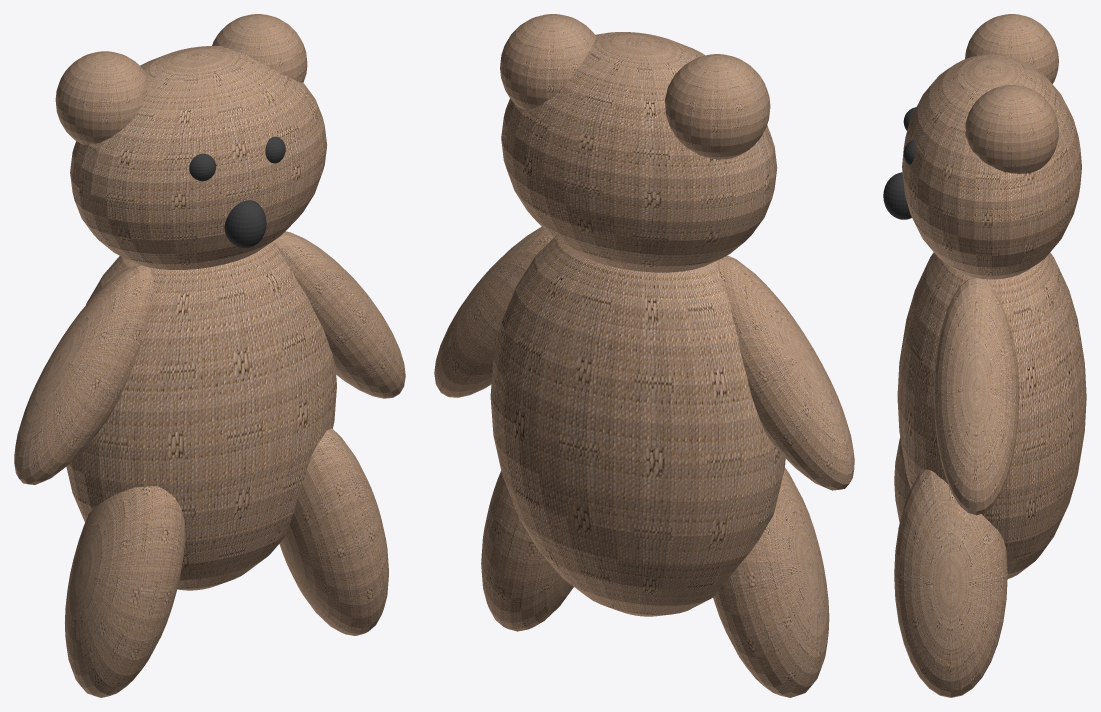
Rendered from TeddyBear.fbx.
3 renders of one model, left to right at view 1: azimuth 30°, elevation 25°; view 2: azimuth 150°, elevation 25°; view 3: azimuth 270°, elevation 25°, orthographic. The views are drawn at different scales.
Parts seen in each view (by area): view 1: item-teddybear; view 2: item-teddybear; view 3: item-teddybear.
Boxes of the visible parts, x1,y1,x2,y2 form: item-teddybear: (14,14,405,697); item-teddybear: (434,14,854,697); item-teddybear: (883,14,1086,697).
Bounding box in the file's own units: 358 × 538 × 172.
